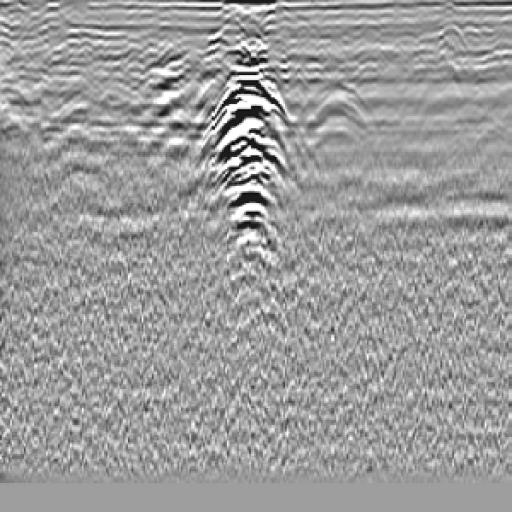metalic: (191, 29, 303, 282)
nonmetalic: (306, 69, 384, 156)
